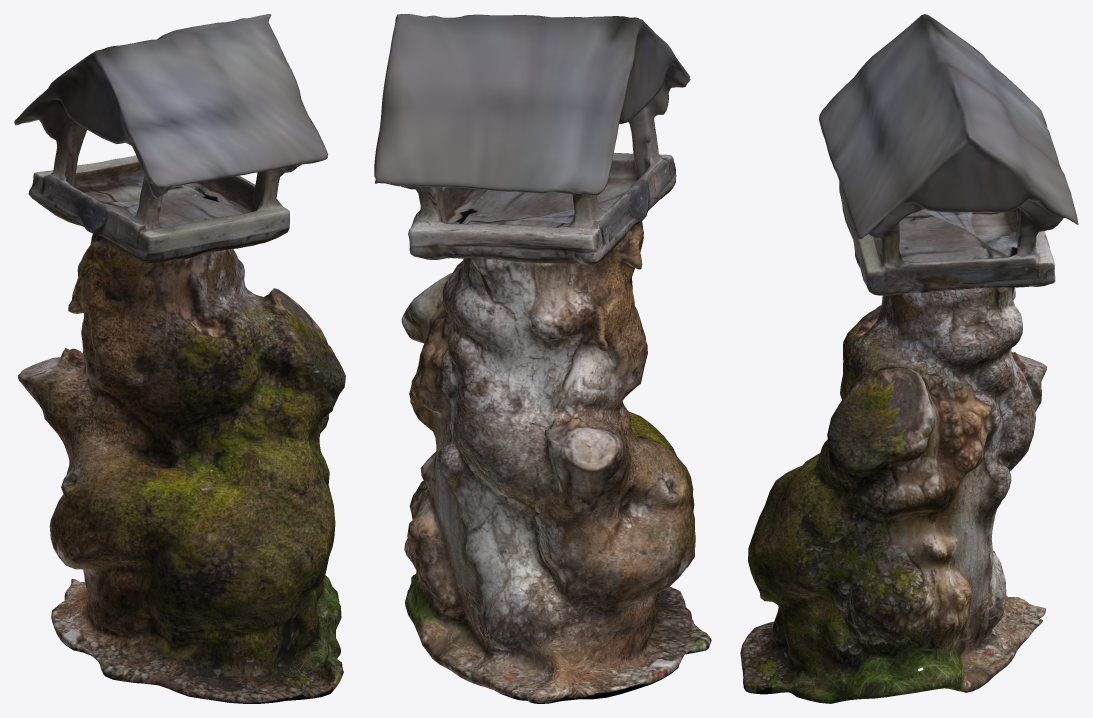
The model's file is birdhouse_stump.glb.
3 renders of one model, left to right at view 1: azimuth 30°, elevation 25°; view 2: azimuth 150°, elevation 25°; view 3: azimuth 270°, elevation 25°, orthographic. The views are drawn at different scales.
Parts seen in each view (by area): view 1: birdhouse_stump; view 2: birdhouse_stump; view 3: birdhouse_stump.
Part boxes in pixels (x1,y1,x2,y2): birdhouse_stump: (14,14,345,703); birdhouse_stump: (374,14,711,703); birdhouse_stump: (740,14,1078,703).
Bounding box in the file's own units: 3.12 × 7 × 3.52.
1 material, 1 textured.
